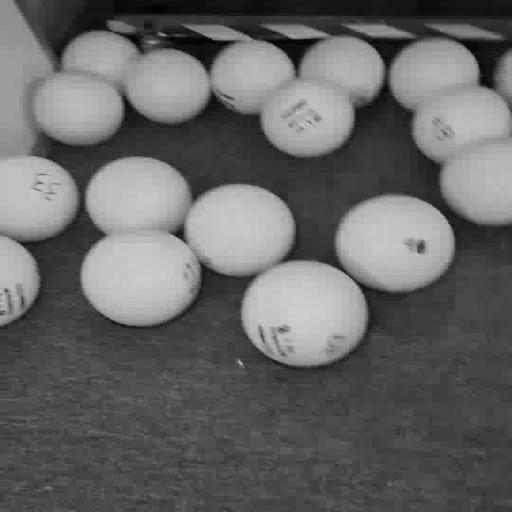fuel: (241, 260, 369, 367), (335, 194, 455, 293), (81, 230, 202, 326), (184, 184, 295, 277), (85, 157, 193, 234), (412, 86, 511, 163), (260, 78, 355, 157), (0, 156, 80, 242), (388, 37, 480, 111), (33, 72, 124, 145), (124, 49, 211, 124), (439, 136, 511, 226), (211, 41, 295, 114), (299, 36, 385, 107), (61, 31, 140, 92), (0, 236, 41, 326), (494, 49, 511, 106)
